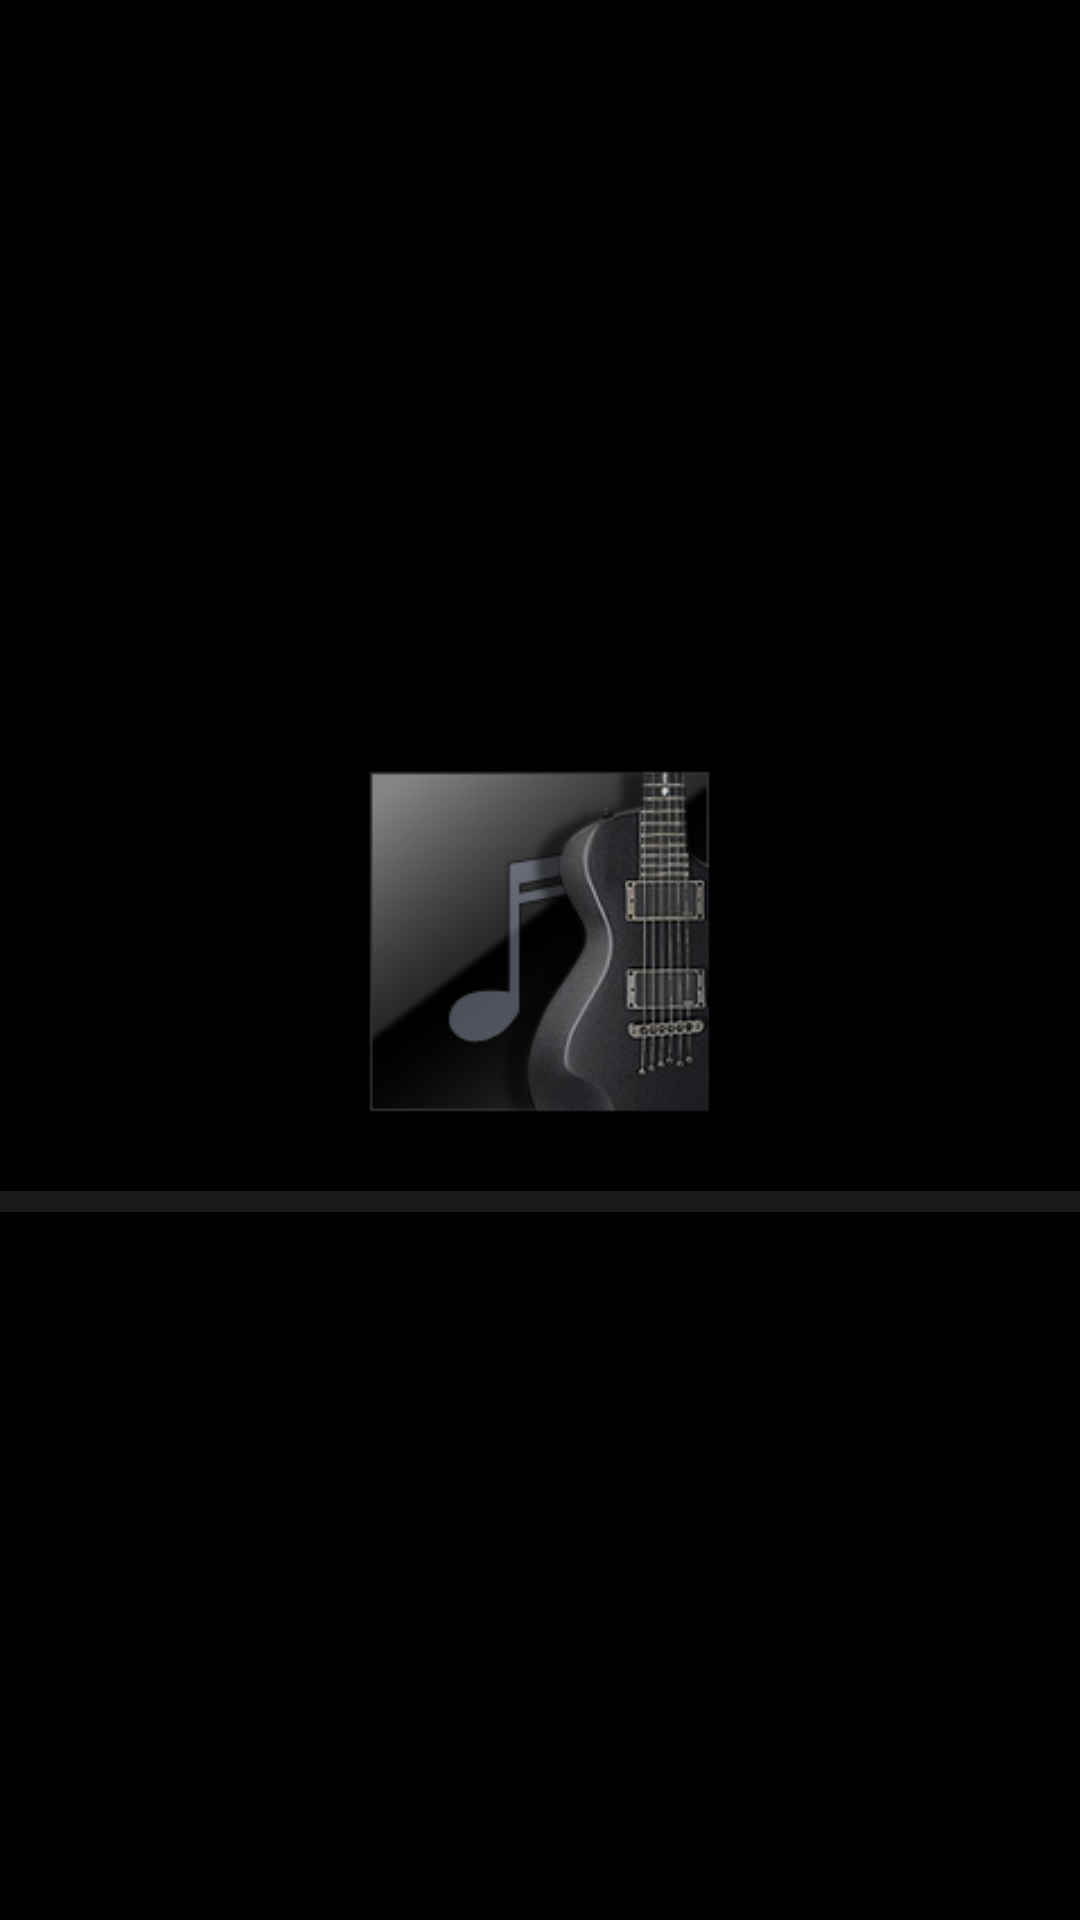

Icon bounding boxes for this 1080 × 1920 phone screenshot, format {"left": x1, "top": y1, "right": x2, "bottom": y2}:
music: {"left": 370, "top": 771, "right": 709, "bottom": 1111}
